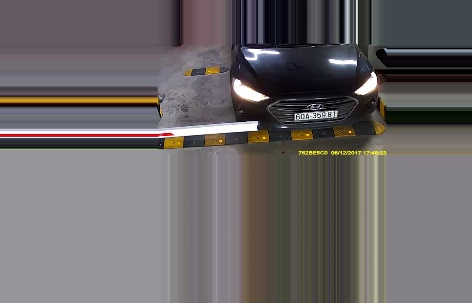plate: (292, 109, 337, 121)
